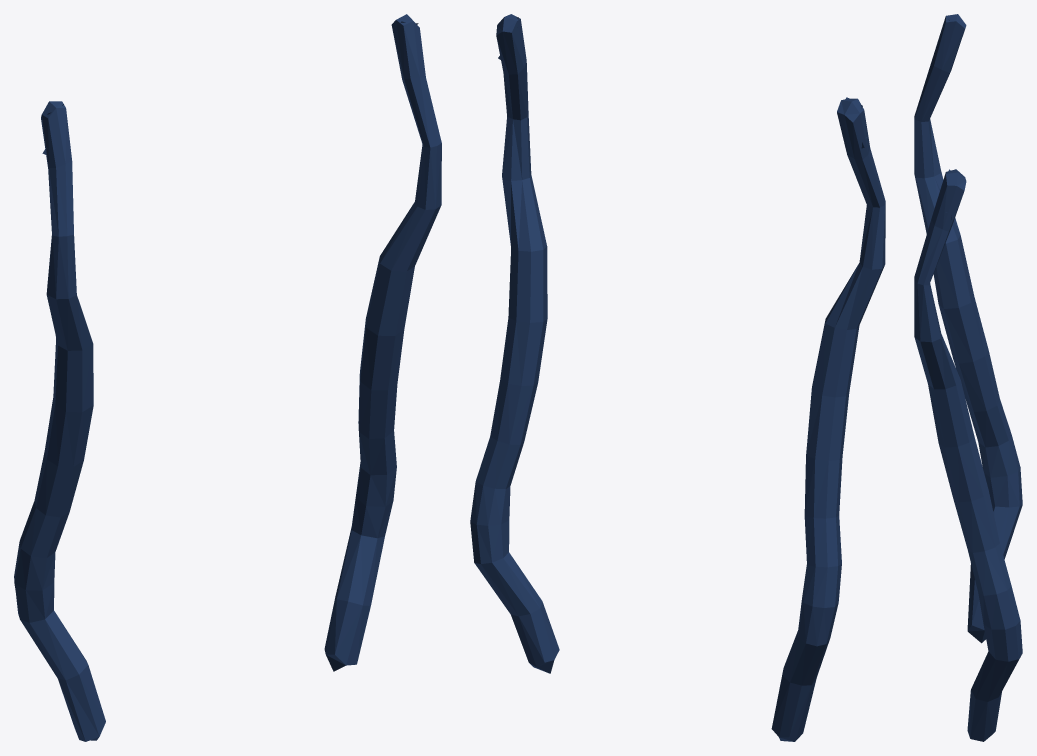
Rendered from Vena Yugular Interna.FBX.
3 renders of one model, left to right at view 1: azimuth 30°, elevation 25°; view 2: azimuth 150°, elevation 25°; view 3: azimuth 270°, elevation 25°, orthographic. The views are drawn at different scales.
Visible parts, largest first — view 1: CS_Veins; view 2: CS_Veins; view 3: CS_Veins.
Boxes of the visible parts, box(x1,y1,x2,y2) form: CS_Veins: box(14, 14, 441, 741); CS_Veins: box(470, 14, 885, 741); CS_Veins: box(914, 14, 1022, 741).
Size of the model in its own units: 275 by 444 by 72.57.
